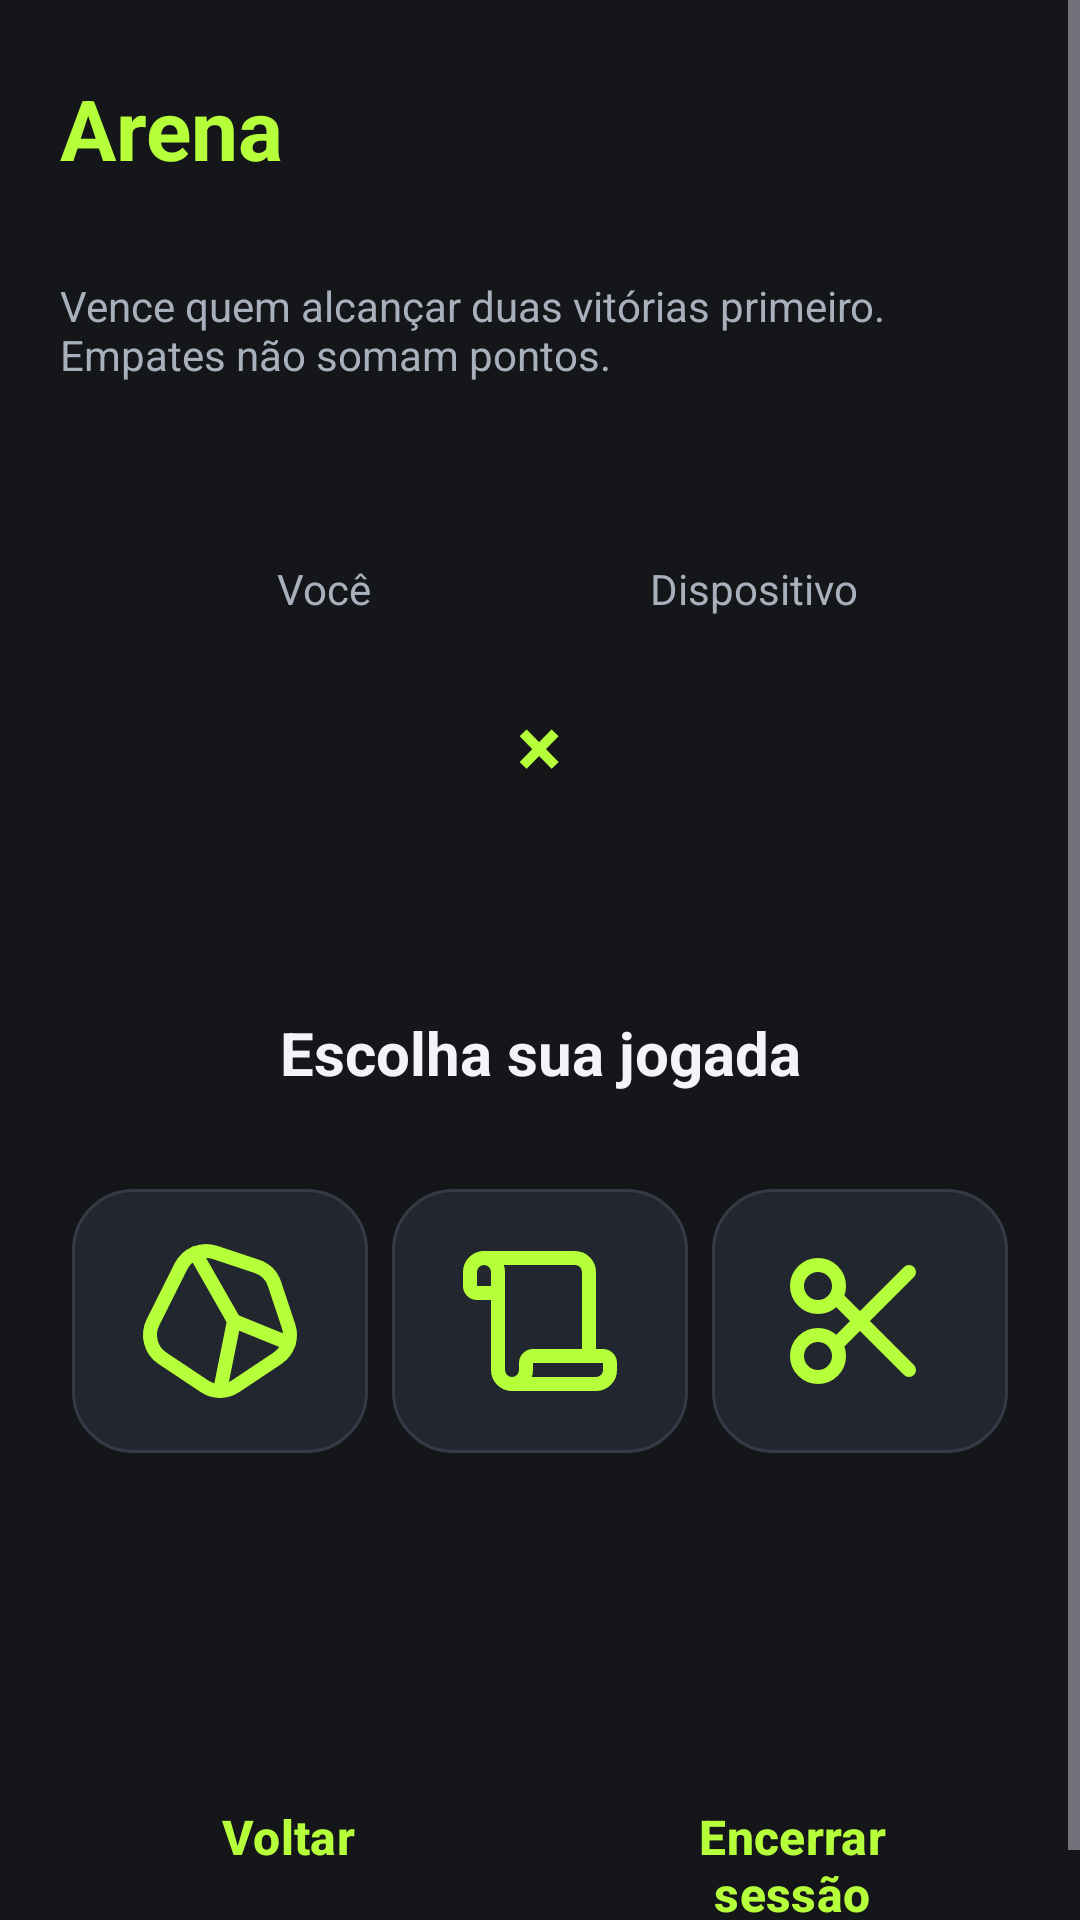

Where icons sit on this 1080px x 1920px app screen, as {"left": x1, "top": y1, "right": x2, "bottom": y2}:
Jogar papel: {"left": 392, "top": 1189, "right": 688, "bottom": 1453}
Jogar pedra: {"left": 72, "top": 1189, "right": 368, "bottom": 1453}
Jogar tesoura: {"left": 712, "top": 1189, "right": 1008, "bottom": 1453}
